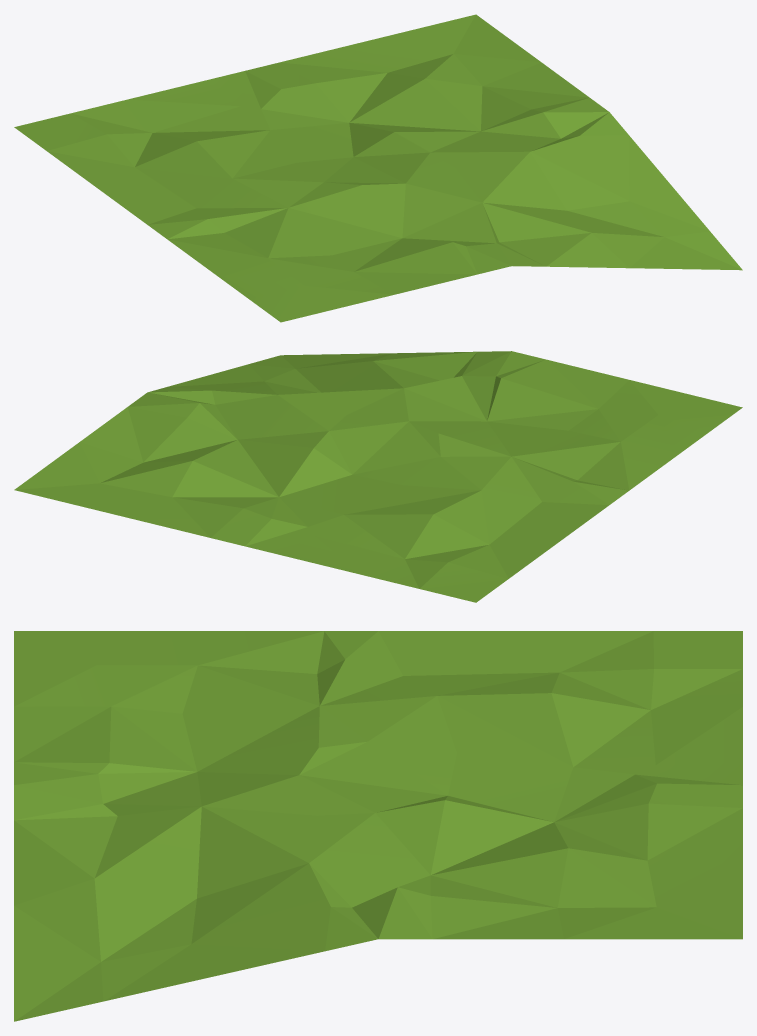
File: SM_ground_03_001.glb
3 renders of one model, top to bottom at view 1: azimuth 30°, elevation 25°; view 2: azimuth 150°, elevation 25°; view 3: azimuth 270°, elevation 25°, orthographic. The views are drawn at different scales.
Parts seen in each view (by area): view 1: SM_ground_03.001; view 2: SM_ground_03.001; view 3: SM_ground_03.001.
Part boxes in pixels (x1=…): SM_ground_03.001: x1=14, y1=14, x2=742, y2=322; SM_ground_03.001: x1=14, y1=351, x2=742, y2=602; SM_ground_03.001: x1=14, y1=631, x2=742, y2=1021.
Bounding box in the file's own units: 16 × 2.35 × 16.
Materials: 1 (1 with a texture image).
